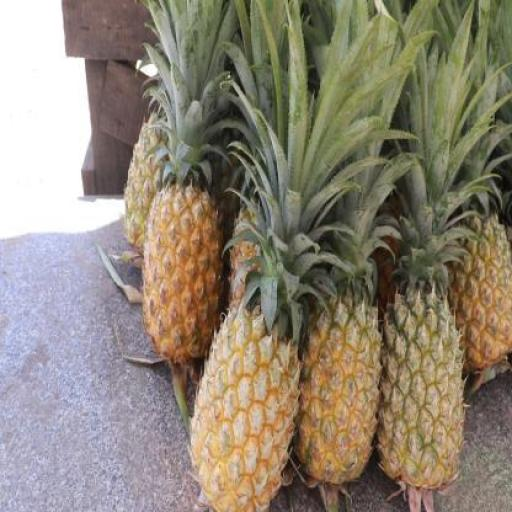------------------------------: (376, 289, 466, 495)
Pineapple - v8 v1: (193, 304, 299, 512), (295, 296, 382, 489), (144, 183, 218, 370), (453, 214, 512, 368)
